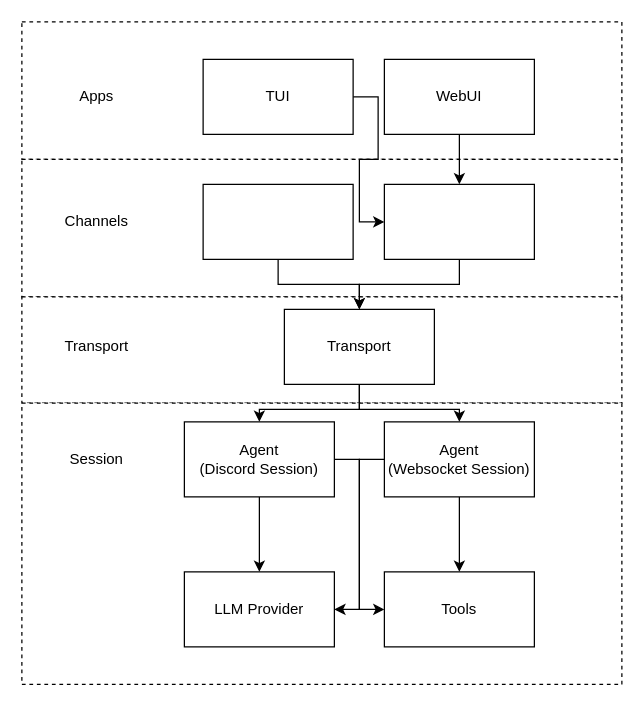
The diagram is 644 pixels wide and 706 high, and some of its shapes have lost their labels. The shapes that lost their labels are listed below. From the top down, each one's centre as x and y in pixels, then its label:
point (277, 221): Discord API
point (458, 221): Websocket
